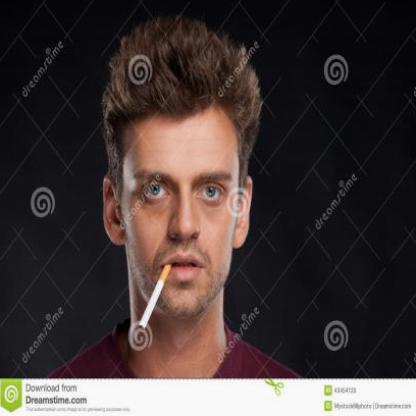cigarette: (139, 261, 172, 333)
person: (95, 26, 254, 374)
